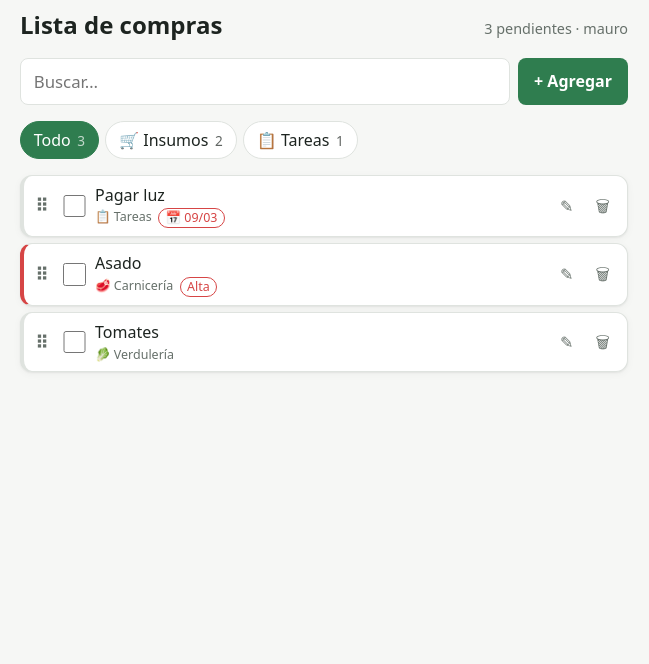
Test: App › las tareas no tienen subcategoría
Expected: the text "Asado" is shown, x1=95 y1=252 x2=141 y2=274
Click the button "+ Agregar". click: (573, 82)
box: x1=518 y1=58 x2=628 y2=106
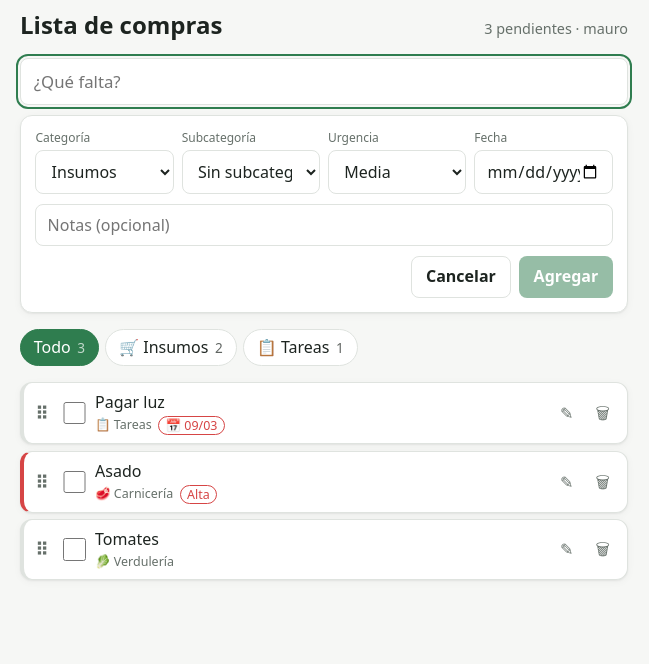
Select "Limpieza" in the dropdown labelled "Subcategoría". click: (251, 172)
box: x1=182 y1=150 x2=320 y2=194
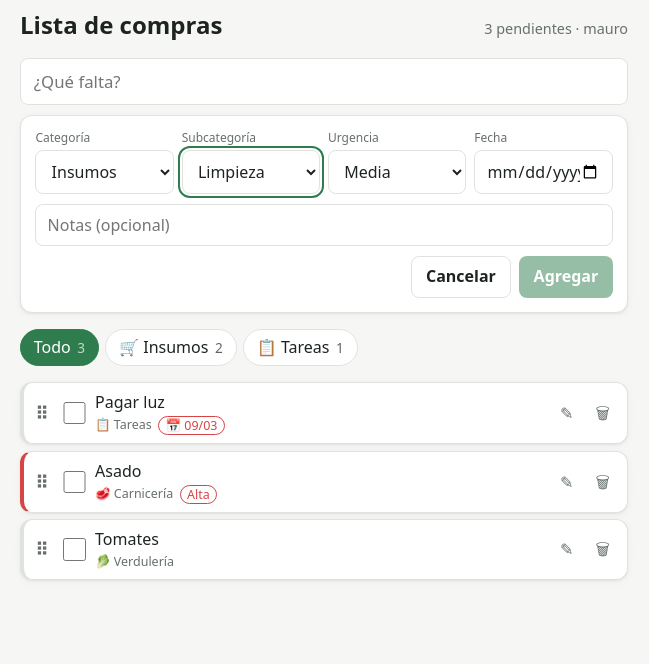
Select "Tareas" in the dropdown labelled "Categoría". click: (105, 172)
box: x1=35 y1=150 x2=174 y2=194
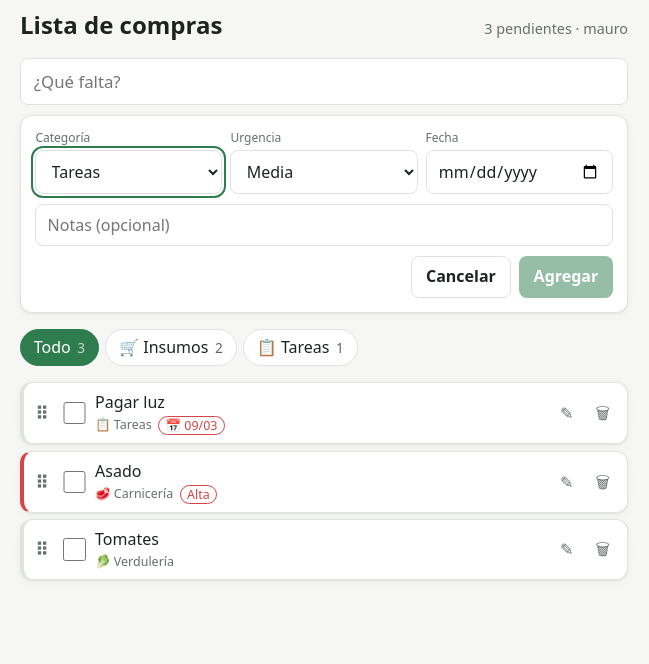
Now the text labelled "Subcategoría" is gone
Type "Llamar al plomero" into the search field named "Nombre del ítem nuevo". click: (324, 82)
box: x1=20 y1=58 x2=628 y2=106
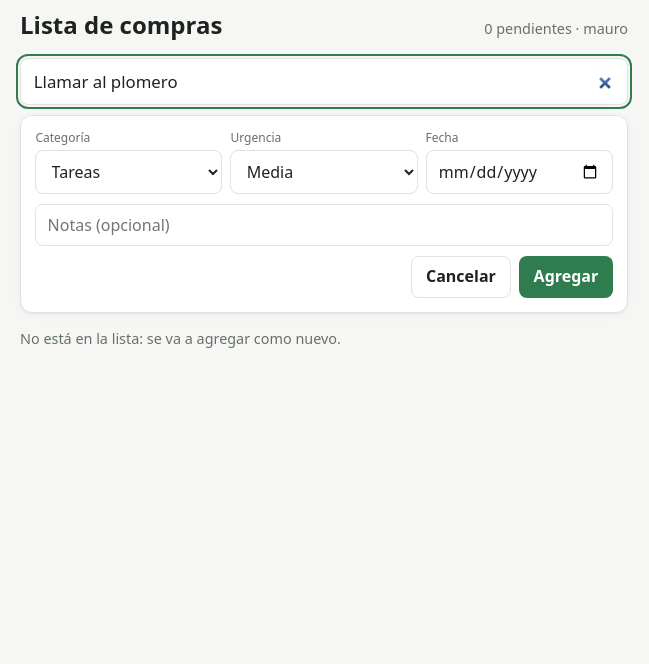
Click the button "Agregar". click: (566, 277)
box: x1=519 y1=256 x2=613 y2=298
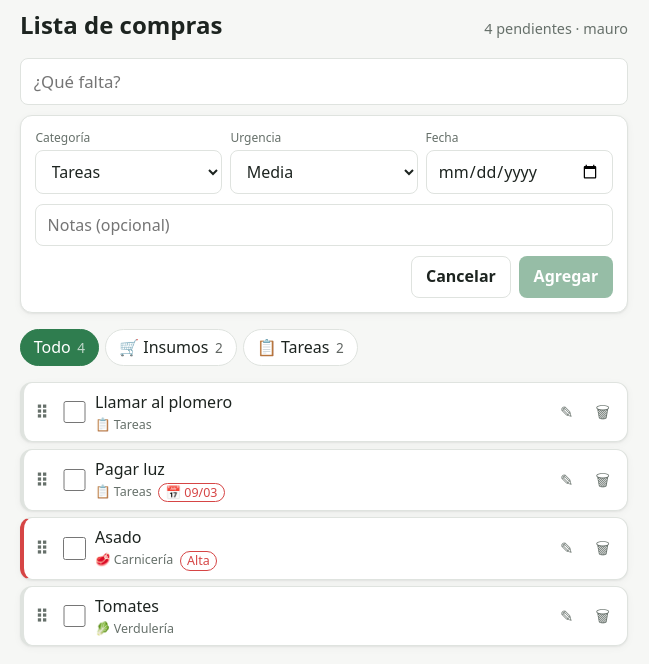
Now the text with class "item-name" reads "Llamar al plomero", box x1=95 y1=391 x2=232 y2=413
